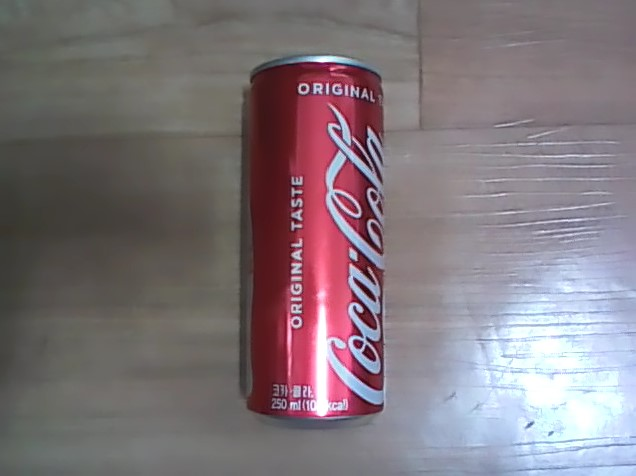Can: (235, 49, 397, 430)
